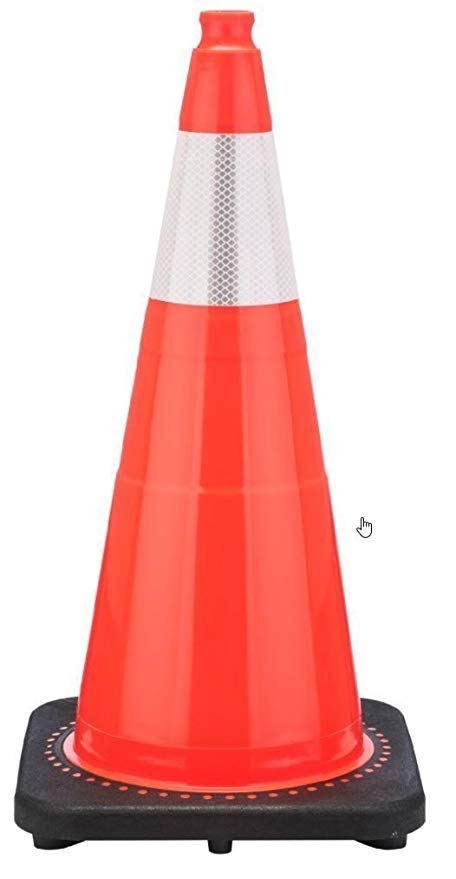orangeC: (22, 11, 437, 859)
